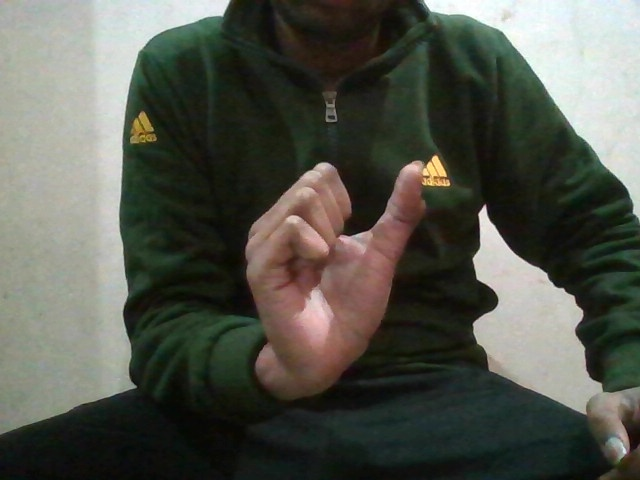S: (233, 157, 430, 368)
